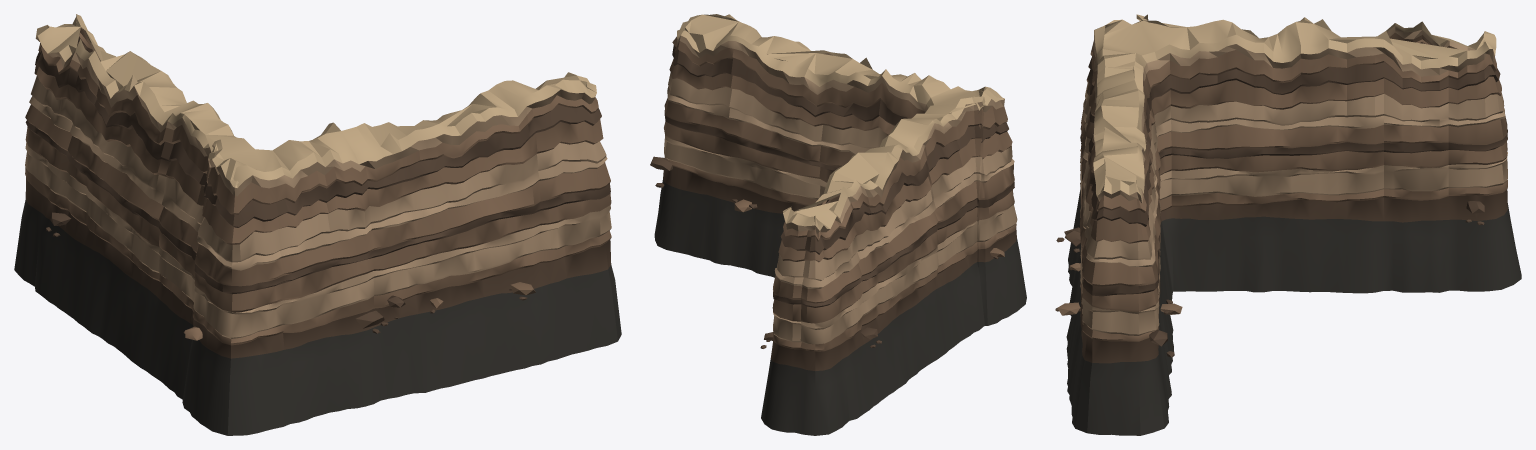
File: parede-l.glb
3 renders of one model, left to right at view 1: azimuth 30°, elevation 25°; view 2: azimuth 150°, elevation 25°; view 3: azimuth 270°, elevation 25°, orthographic. The views are drawn at different scales.
Visible parts, largest first — view 1: parede-l; view 2: parede-l; view 3: parede-l.
Boxes of the visible parts, x1=… form: parede-l: x1=14, y1=14, x2=621, y2=435; parede-l: x1=650, y1=14, x2=1026, y2=435; parede-l: x1=1055, y1=14, x2=1521, y2=435.
Bounding box in the file's own units: 273 × 164 × 280.
